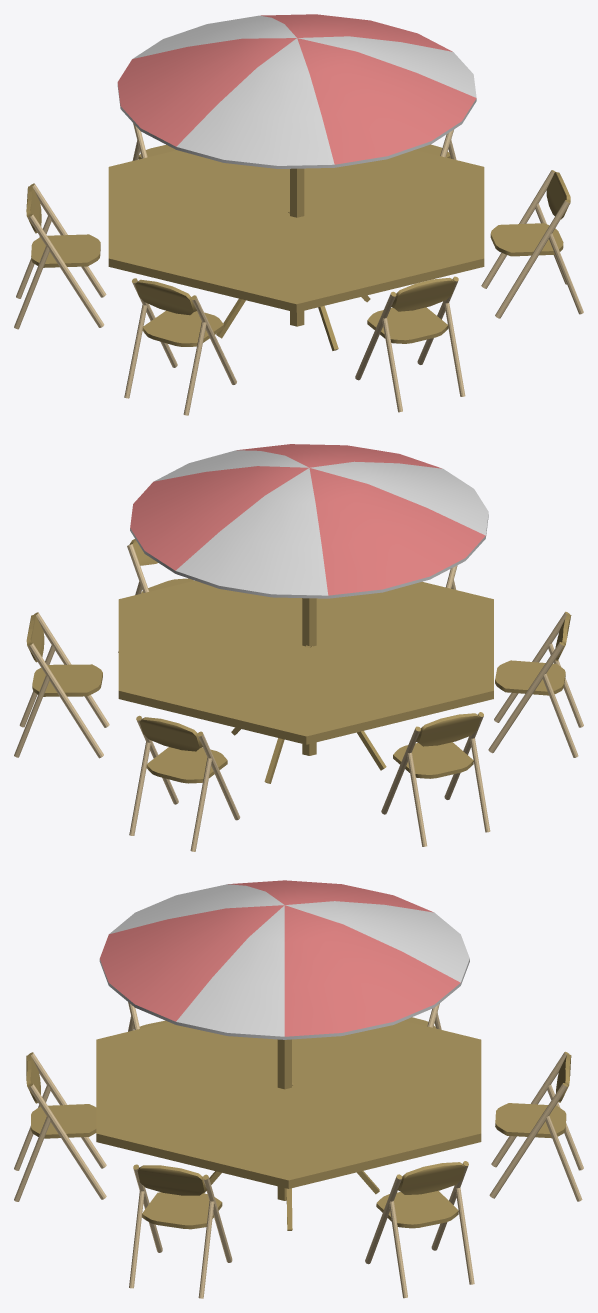
Rendered from HexTableSeatedRedUmbrella.fbx.
The picture shows the model from 3 angles, top to bottom: view 1: azimuth 30°, elevation 25°; view 2: azimuth 150°, elevation 25°; view 3: azimuth 270°, elevation 25°; orthographic projection. The views are drawn at different scales.
Visible parts, largest first — view 1: HexTableSeatedRedUmbrella; view 2: HexTableSeatedRedUmbrella; view 3: HexTableSeatedRedUmbrella.
Part boxes in pixels (x1,y1,x2,y2): HexTableSeatedRedUmbrella: (14,14,583,415); HexTableSeatedRedUmbrella: (14,444,583,851); HexTableSeatedRedUmbrella: (14,880,583,1298).
Size of the model in its own units: 11.26 by 6.62 by 11.69.
